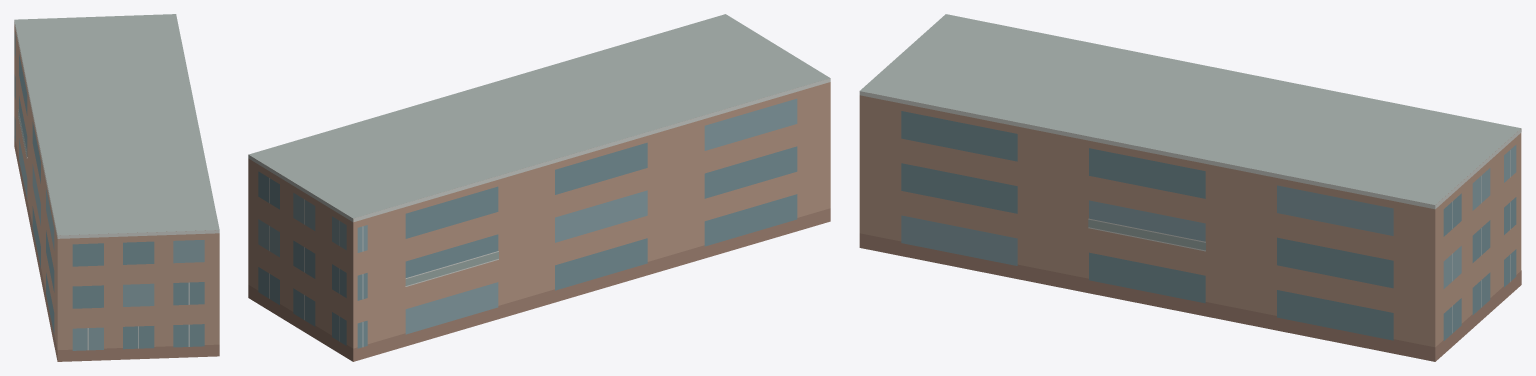
The model's file is survey-upis-32809312.glb.
3 views of the same model, side by side, from view 1: azimuth 30°, elevation 25°; view 2: azimuth 150°, elevation 25°; view 3: azimuth 270°, elevation 25° (orthographic). The views are drawn at different scales.
Visible parts, largest first — view 1: survey-upis-32809312.tmp; view 2: survey-upis-32809312.tmp; view 3: survey-upis-32809312.tmp.
Boxes of the visible parts, left/top/right/bottom form: survey-upis-32809312.tmp: left=14, top=14, right=219, bottom=361; survey-upis-32809312.tmp: left=248, top=14, right=830, bottom=361; survey-upis-32809312.tmp: left=859, top=14, right=1521, bottom=361.
Size of the model in its own units: 23.94 by 9.15 by 35.03.
